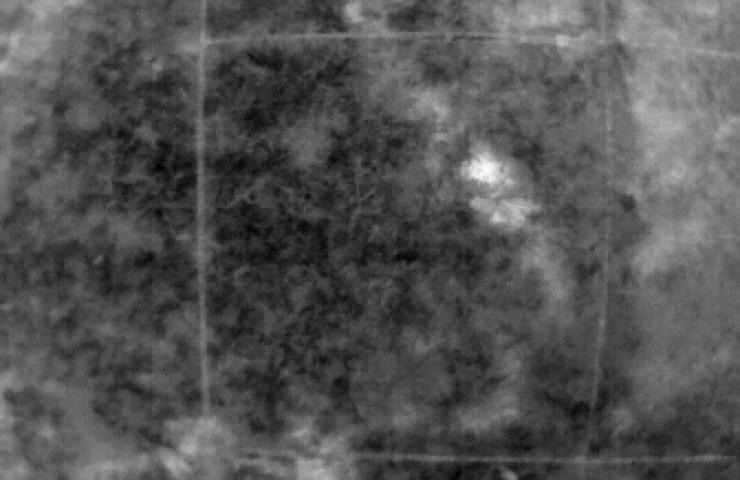landmines: (460, 151, 508, 188)
